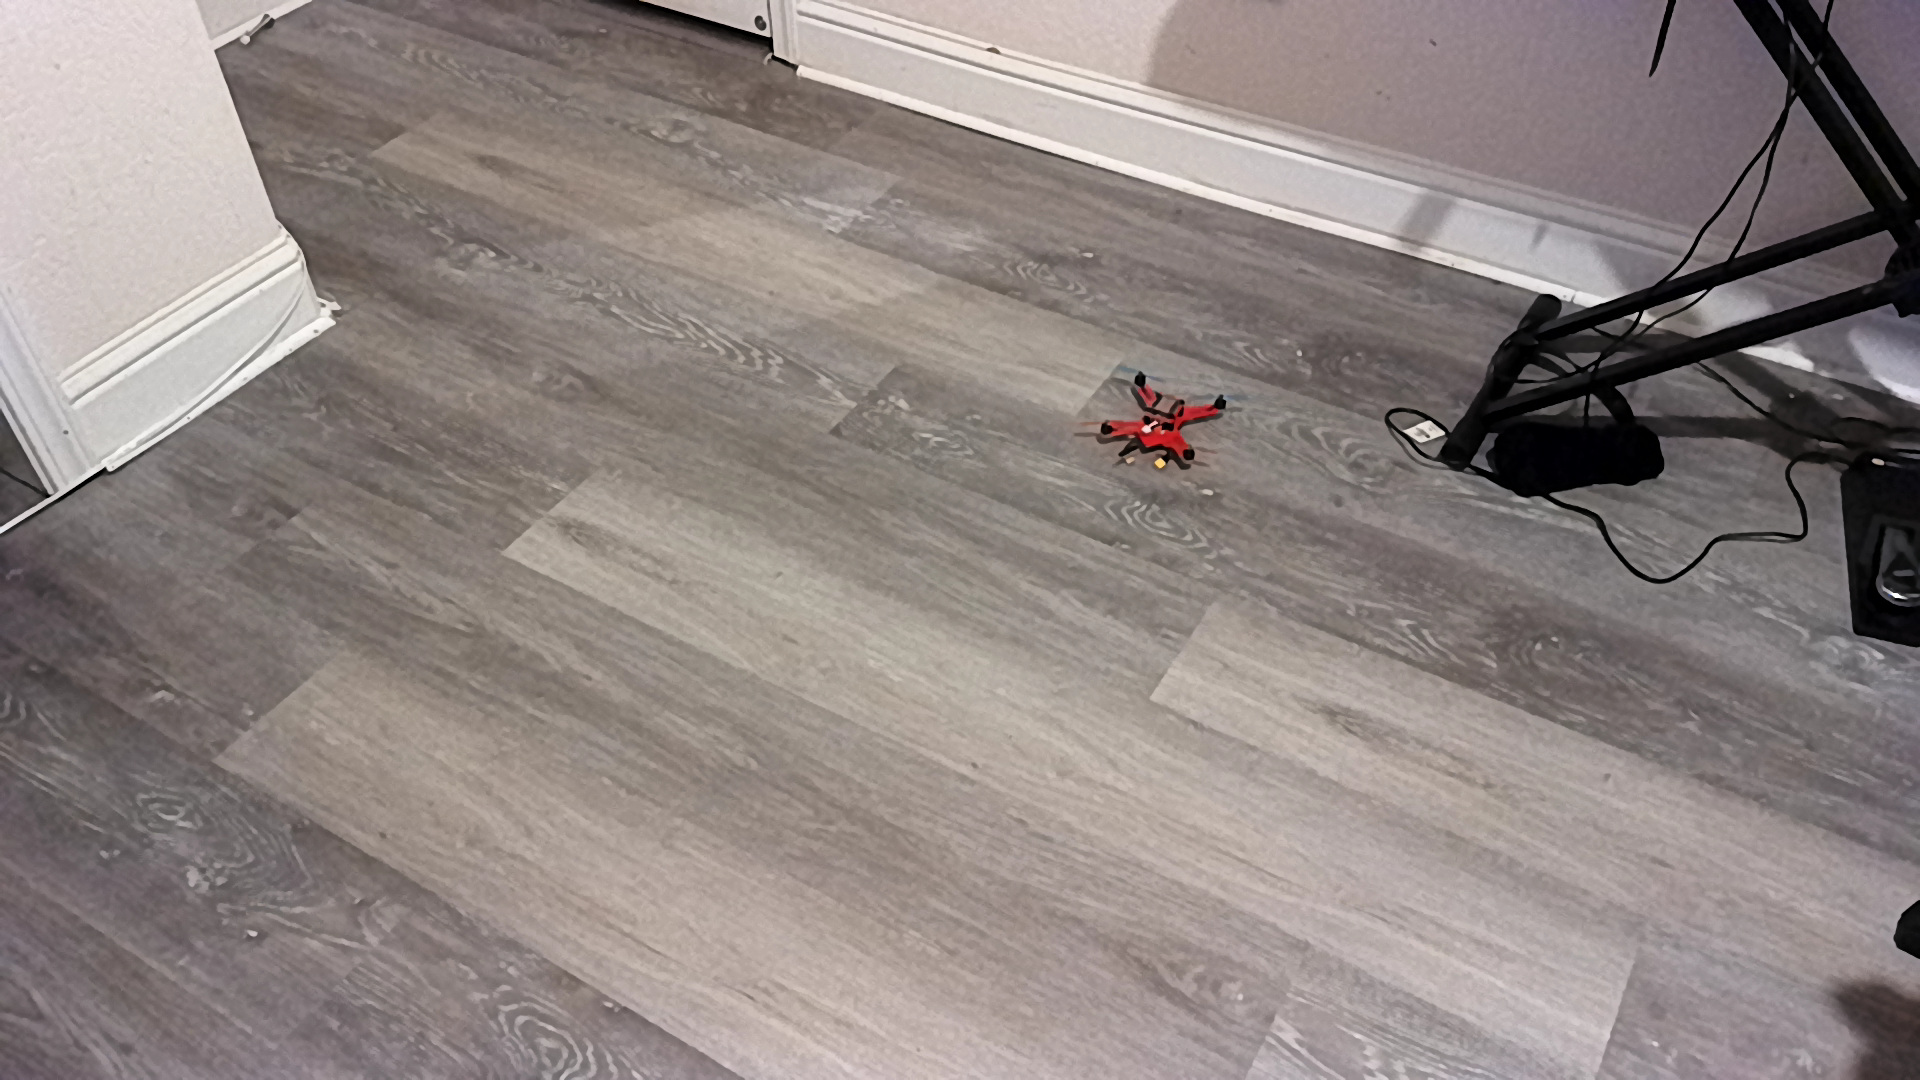drone: (1087, 357, 1259, 480)
